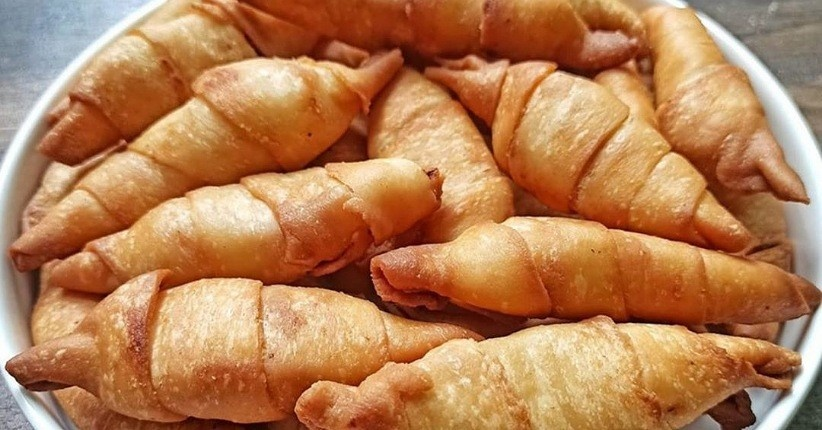pisang_molen: (9, 46, 405, 274), (2, 274, 487, 423), (423, 60, 751, 254), (293, 317, 801, 429), (371, 216, 821, 324)
